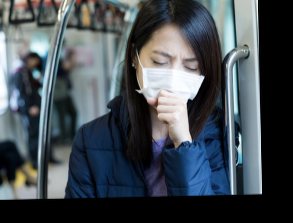with_mask: (135, 48, 201, 111)
